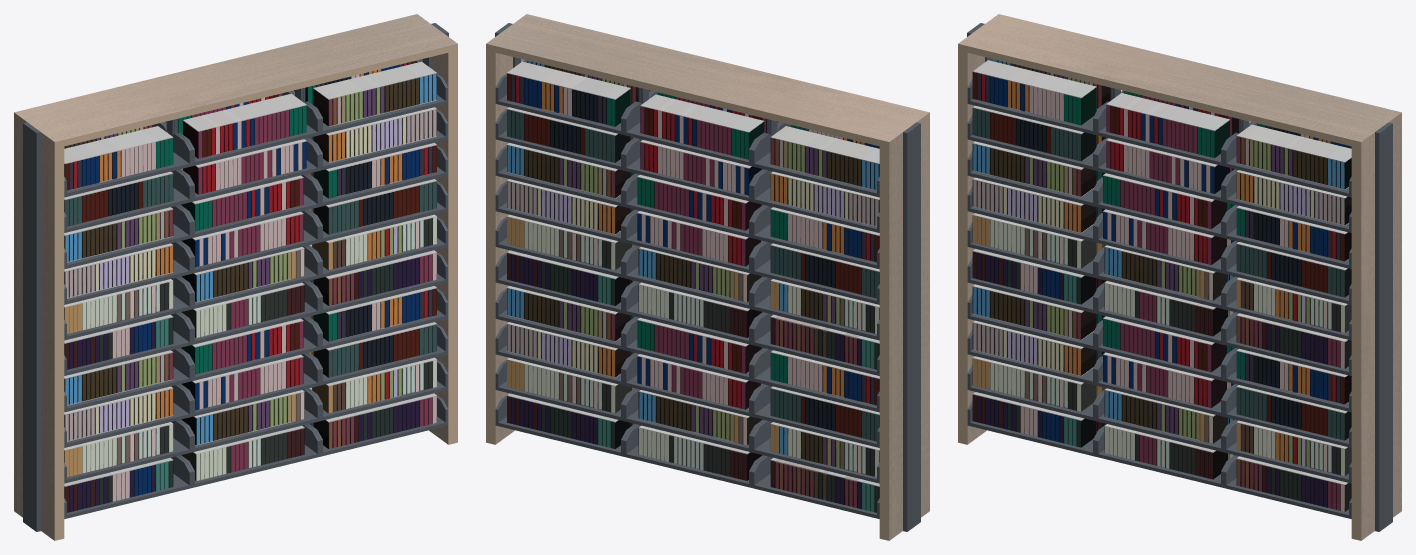
File: bookself.fbx
The picture shows the model from 3 angles, left to right: view 1: azimuth 30°, elevation 25°; view 2: azimuth 150°, elevation 25°; view 3: azimuth 330°, elevation 25°; orthographic projection.
Visible parts, largest first — view 1: bookself; view 2: bookself; view 3: bookself.
Boxes of the visible parts, x1=… form: bookself: x1=14, y1=14, x2=457, y2=540; bookself: x1=486, y1=14, x2=929, y2=540; bookself: x1=958, y1=14, x2=1401, y2=540.
Size of the model in its own units: 0.0267 by 0.0246 by 0.00455.
Materials: 1 (1 with a texture image).
